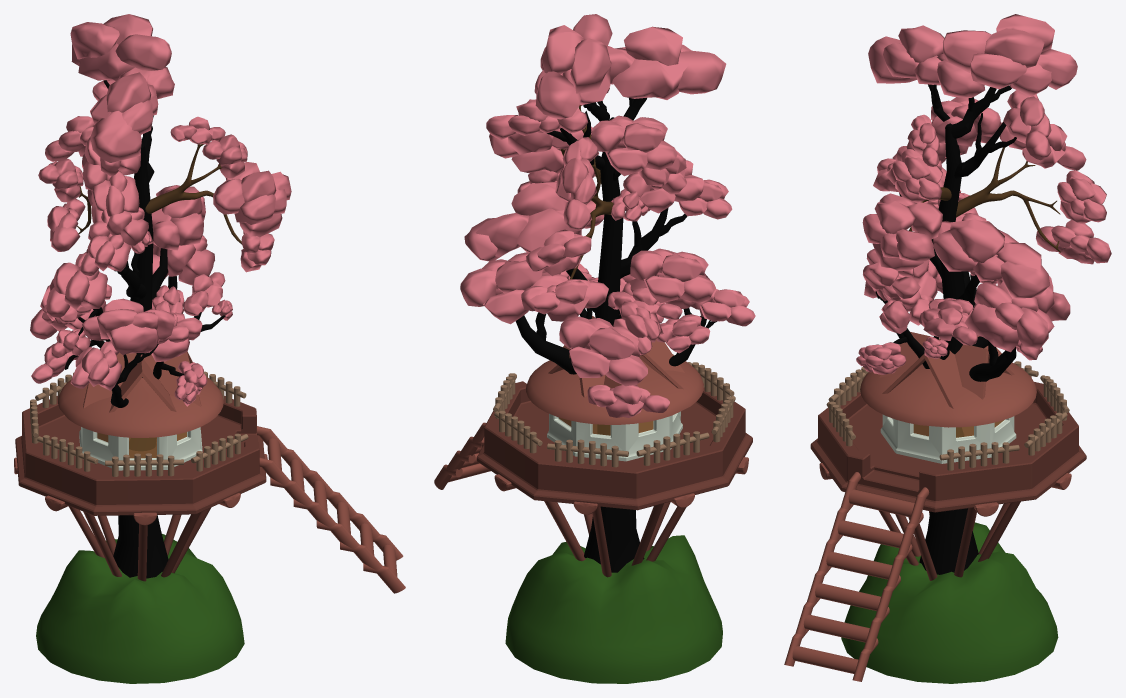
File: tree_house04.fbx
3 renders of one model, left to right at view 1: azimuth 30°, elevation 25°; view 2: azimuth 150°, elevation 25°; view 3: azimuth 270°, elevation 25°, orthographic. The views are drawn at different scales.
Parts seen in each view (by area): view 1: Foliages, Grass_mound, platform, root, tree_roof, tree_ladder, tree_fence, tree_Bracket, tree_house_body; view 2: Foliages, Grass_mound, platform, root, tree_roof, tree_fence, tree_Bracket, tree_house_body, tree_ladder; view 3: Foliages, Grass_mound, platform, root, tree_roof, tree_ladder, tree_fence, tree_house_body, tree_Bracket.
Part boxes in pixels (bbox=[...]): Foliages: bbox=[30, 14, 291, 406]; Grass_mound: bbox=[36, 534, 244, 683]; platform: bbox=[15, 396, 266, 515]; root: bbox=[65, 80, 241, 578]; tree_roof: bbox=[58, 352, 223, 437]; tree_ladder: bbox=[257, 426, 405, 593]; tree_fence: bbox=[30, 371, 248, 476]; tree_Bracket: bbox=[14, 454, 267, 581]; tree_house_body: bbox=[79, 427, 202, 470]; Foliages: bbox=[460, 14, 755, 417]; Grass_mound: bbox=[505, 535, 722, 683]; platform: bbox=[476, 381, 752, 510]; root: bbox=[515, 98, 716, 572]; tree_roof: bbox=[526, 315, 703, 424]; tree_fence: bbox=[493, 354, 735, 467]; tree_Bracket: bbox=[481, 437, 748, 577]; tree_house_body: bbox=[547, 411, 682, 461]; tree_ladder: bbox=[434, 422, 490, 489]; Foliages: bbox=[856, 14, 1111, 374]; Grass_mound: bbox=[841, 522, 1058, 683]; platform: bbox=[810, 382, 1086, 512]; root: bbox=[875, 84, 1060, 574]; tree_roof: bbox=[860, 332, 1036, 427]; tree_ladder: bbox=[784, 472, 929, 681]; tree_fence: bbox=[826, 361, 1069, 470]; tree_house_body: bbox=[880, 414, 1016, 463]; tree_Bracket: bbox=[819, 463, 1071, 580].
Size of the model in its own units: 55.83 by 95.57 by 45.96.
